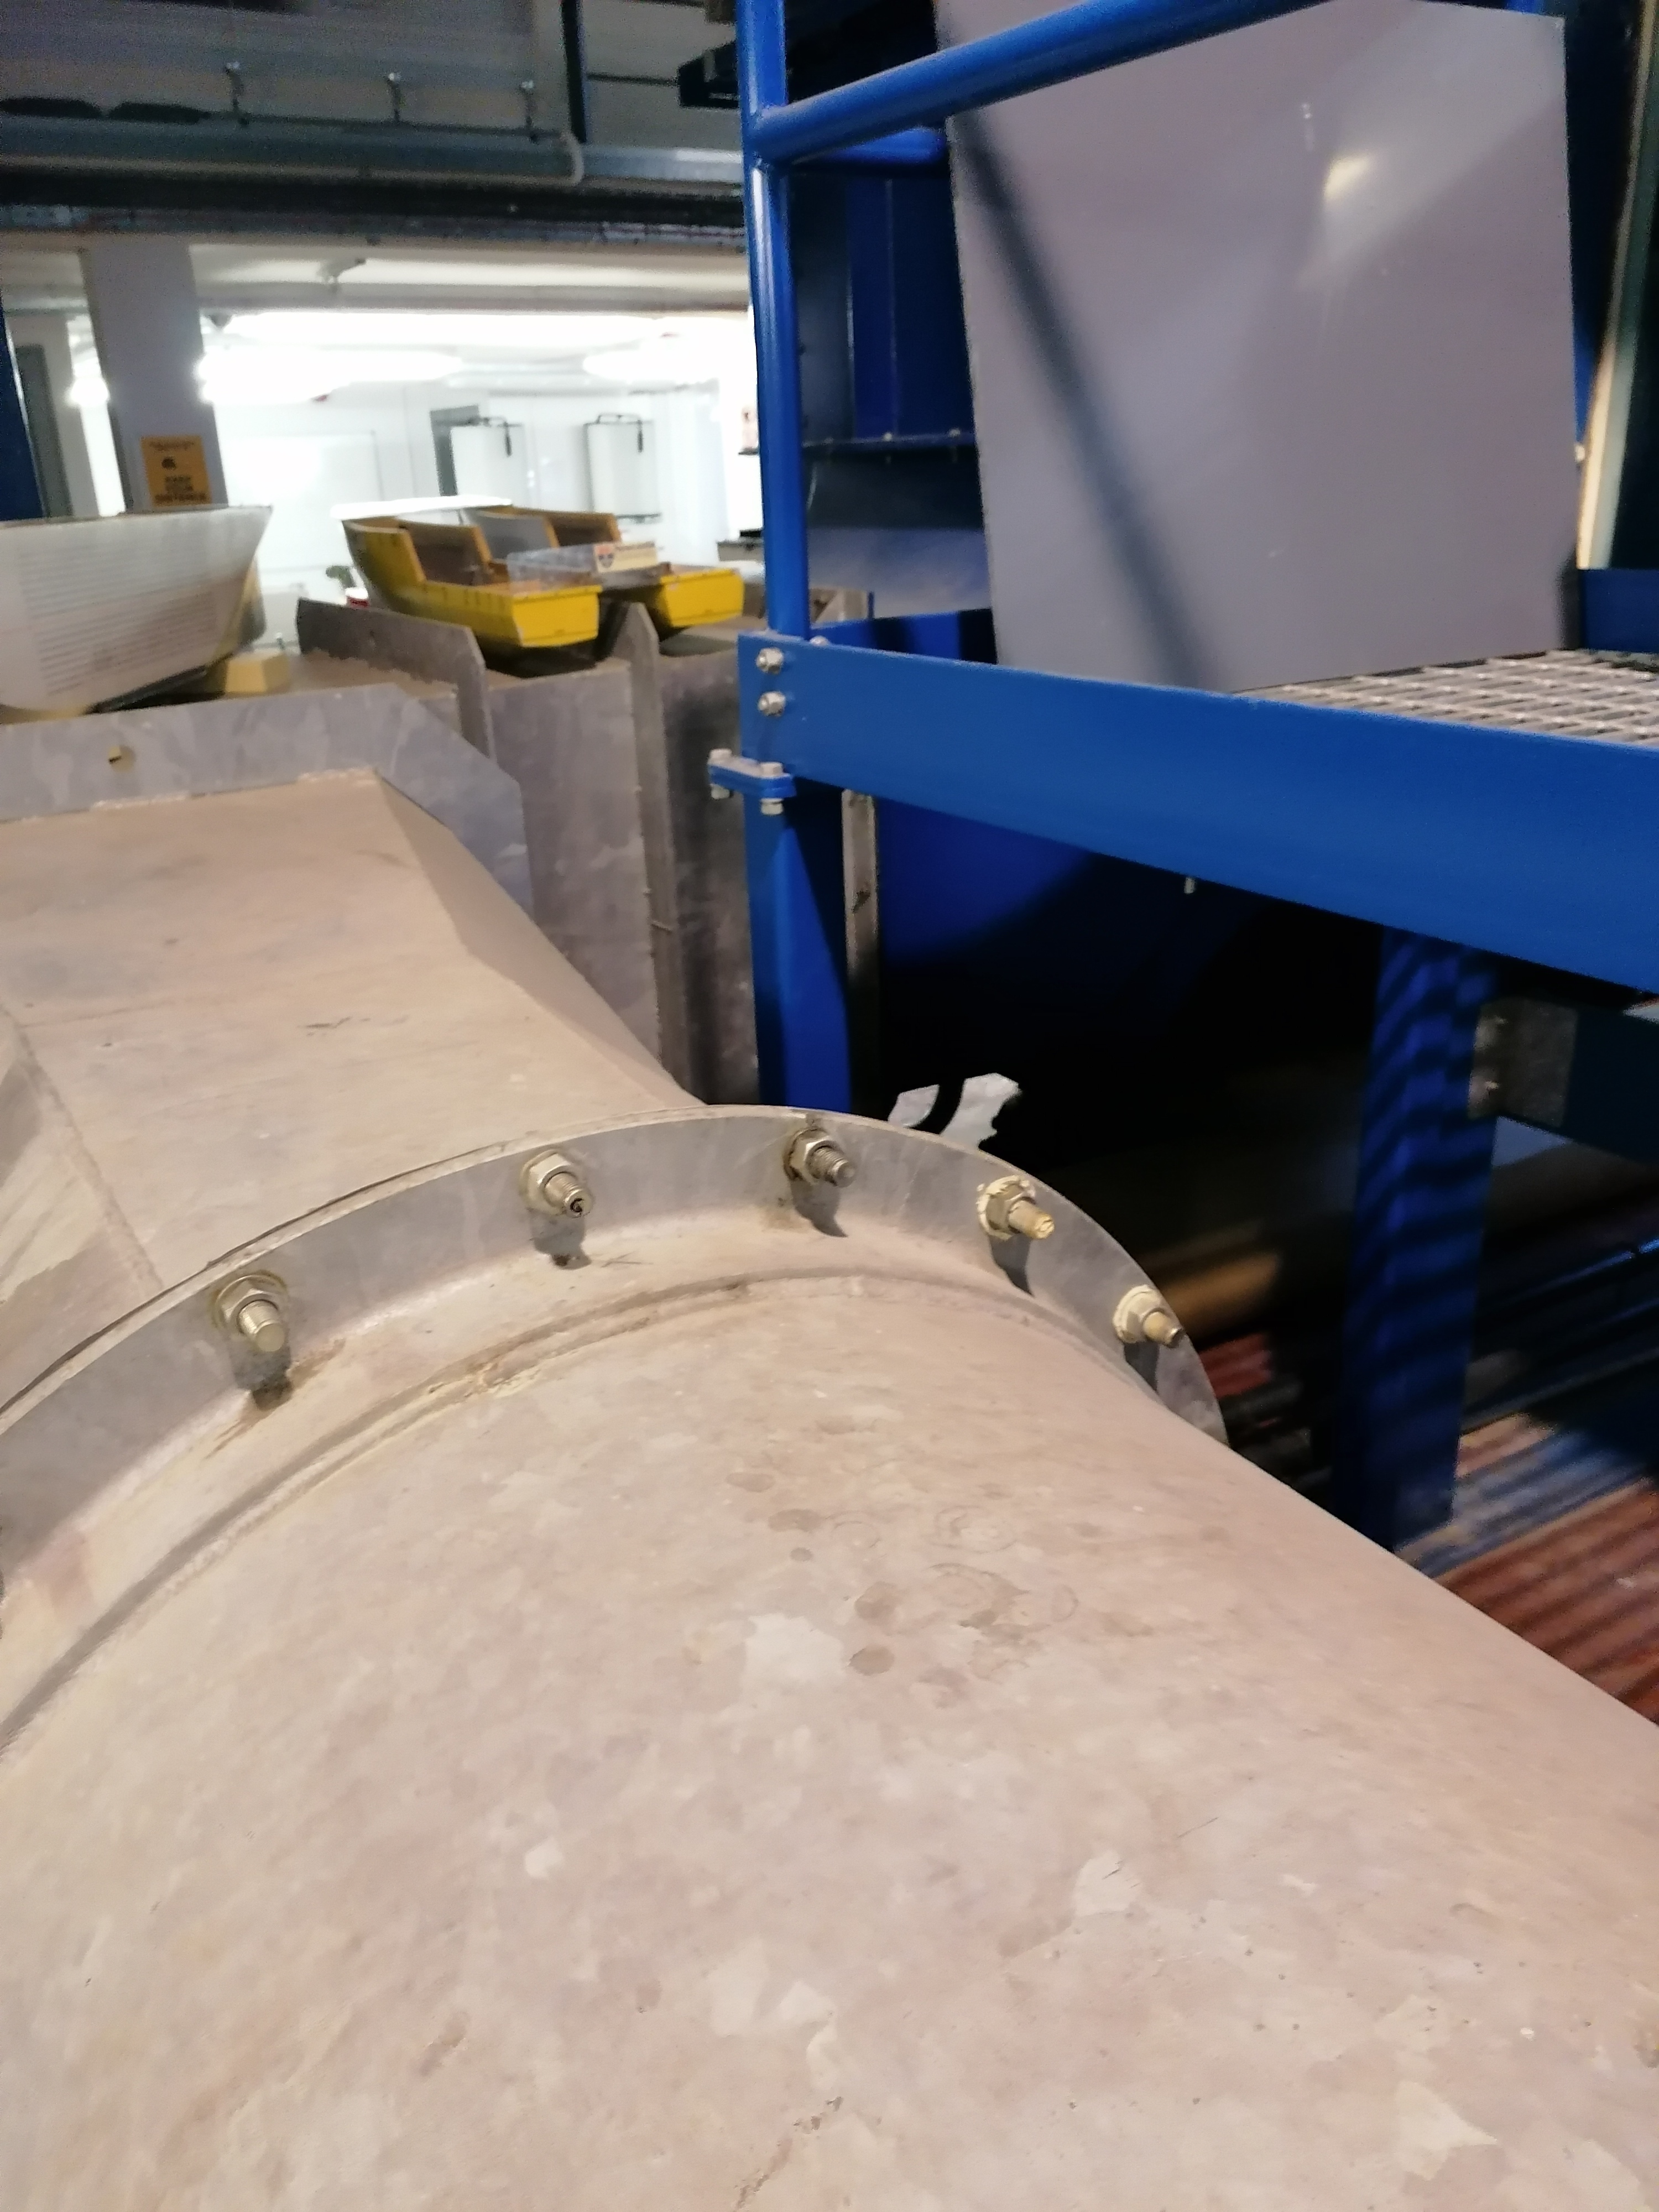bolt: (213, 1268, 296, 1359), (976, 1170, 1058, 1245), (523, 1148, 596, 1228), (782, 1123, 859, 1193), (1112, 1285, 1187, 1352)
nut: (525, 1153, 599, 1209), (218, 1277, 295, 1329), (791, 1129, 843, 1188), (986, 1184, 1039, 1237), (1126, 1298, 1175, 1341)
